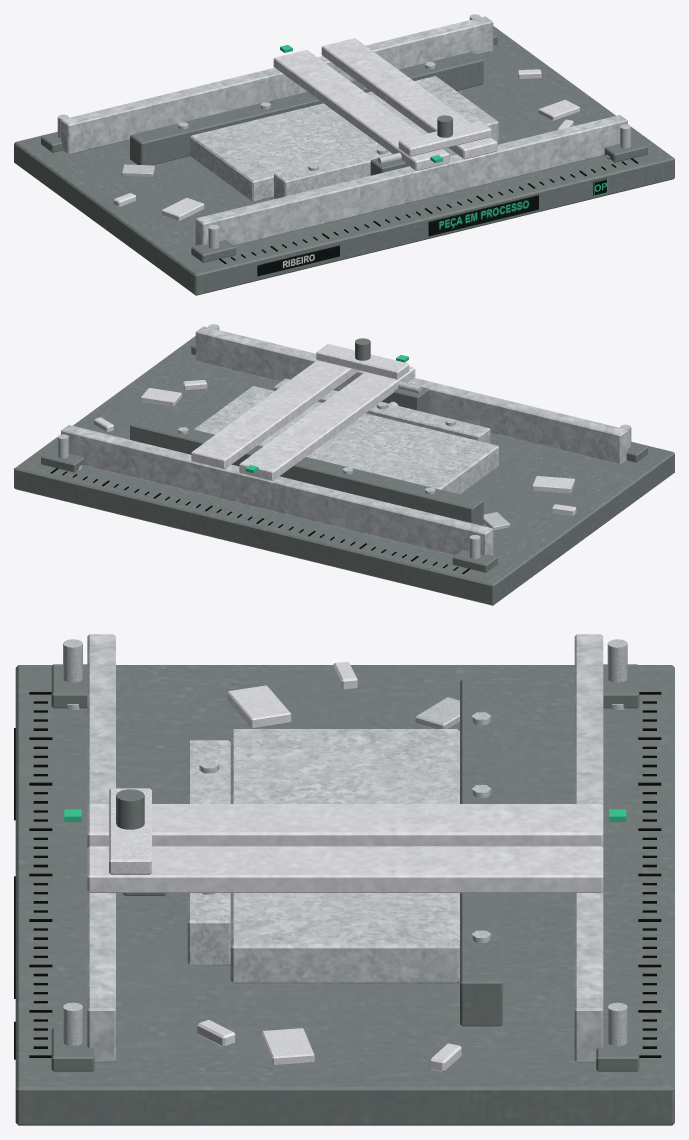
File: ribeiro_peca_cortada.glb
3 views of the same model, one above another, from view 1: azimuth 30°, elevation 25°; view 2: azimuth 150°, elevation 25°; view 3: azimuth 270°, elevation 25° (orthographic). The views are drawn at different scales.
Parts seen in each view (by area): view 1: RB_Gabarito_Fixo, RB_Gabarito_Corte; view 2: RB_Gabarito_Fixo, RB_Gabarito_Corte; view 3: RB_Gabarito_Fixo, RB_Gabarito_Corte.
Part boxes in pixels (x1,y1,x2,y2): RB_Gabarito_Fixo: (14,14,674,295); RB_Gabarito_Corte: (273,38,497,170); RB_Gabarito_Fixo: (14,324,674,605); RB_Gabarito_Corte: (191,338,415,480); RB_Gabarito_Fixo: (14,634,674,1125); RB_Gabarito_Corte: (64,788,626,892).
Bounding box in the file's own units: 0.7 × 0.12 × 0.4612.
Materials: 1 (1 with a texture image).
